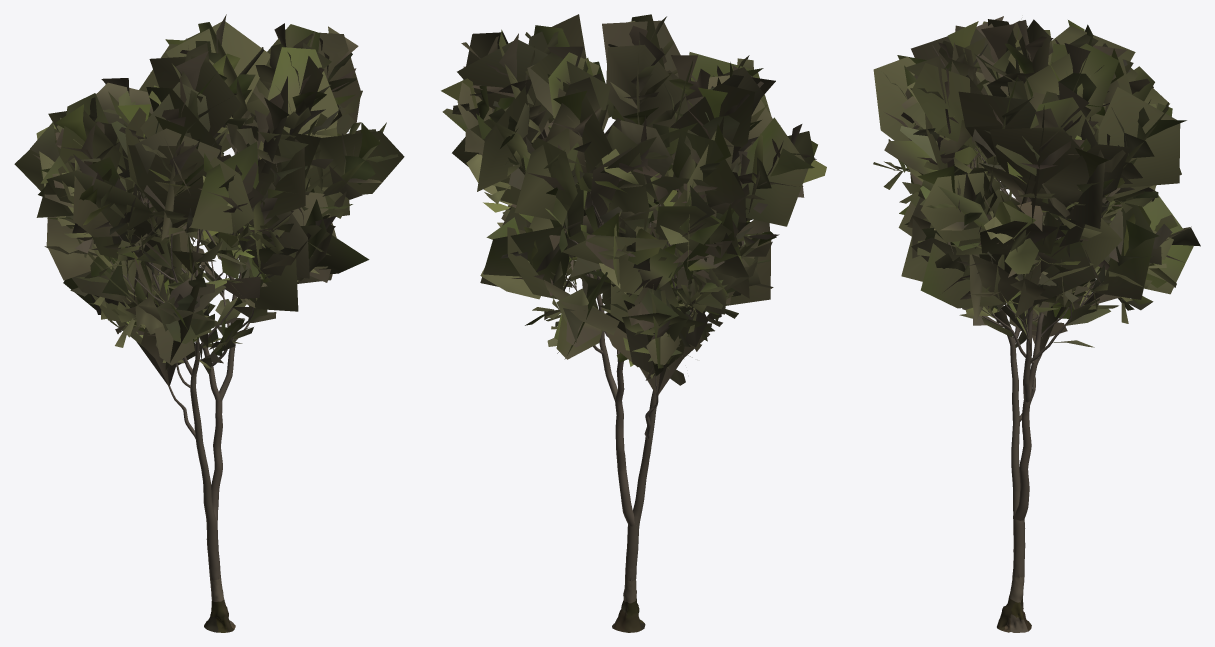
The model's file is SM_BlackAlder_Forest_04_PP_LOD4.gltf.
3 renders of one model, left to right at view 1: azimuth 30°, elevation 25°; view 2: azimuth 150°, elevation 25°; view 3: azimuth 270°, elevation 25°, orthographic. The views are drawn at different scales.
Visible parts, largest first — view 1: SM_BlackAlder_Forest_04_PP; view 2: SM_BlackAlder_Forest_04_PP; view 3: SM_BlackAlder_Forest_04_PP.
Part boxes in pixels (x1,y1,x2,y2): SM_BlackAlder_Forest_04_PP: [14, 14, 404, 632]; SM_BlackAlder_Forest_04_PP: [441, 14, 826, 632]; SM_BlackAlder_Forest_04_PP: [873, 16, 1200, 632].
Size of the model in its own units: 7.36 by 11.73 by 5.81.
Materials: 3 (3 with a texture image).
